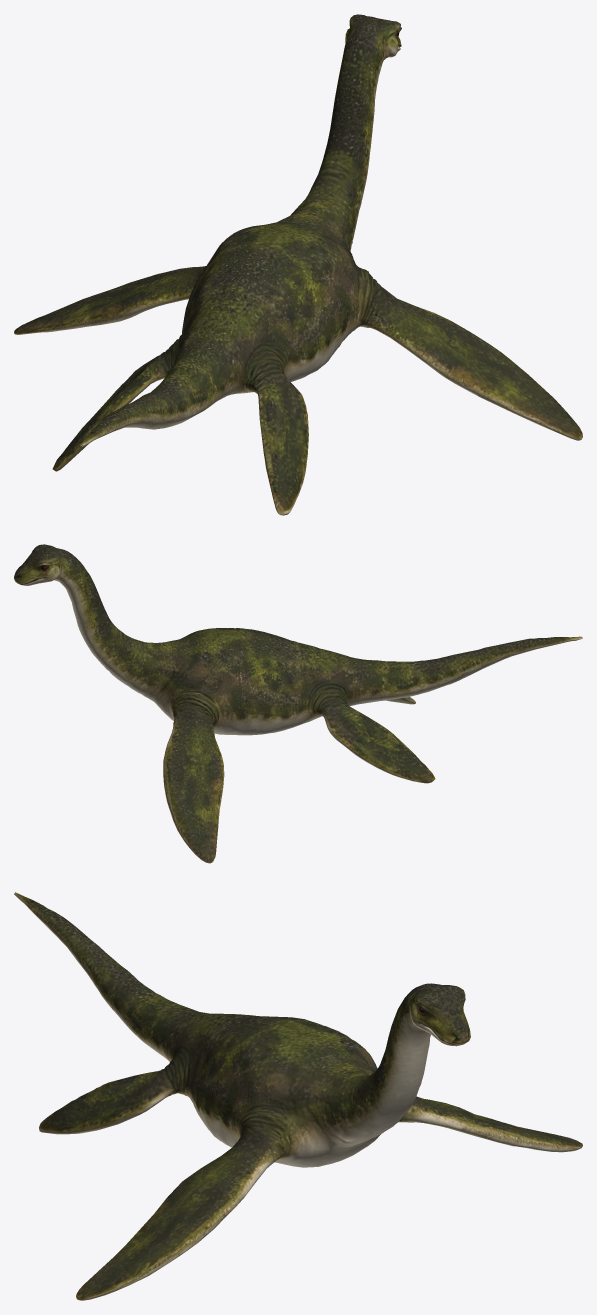
Rendered from beast-nessie.glb.
3 renders of one model, top to bottom at view 1: azimuth 30°, elevation 25°; view 2: azimuth 150°, elevation 25°; view 3: azimuth 270°, elevation 25°, orthographic. The views are drawn at different scales.
Parts seen in each view (by area): view 1: tripo_node_96603394-0335-4e59-9519-7a2a28394368; view 2: tripo_node_96603394-0335-4e59-9519-7a2a28394368; view 3: tripo_node_96603394-0335-4e59-9519-7a2a28394368.
Boxes of the visible parts, x1,y1,x2,y2 form: tripo_node_96603394-0335-4e59-9519-7a2a28394368: (14,14,582,515); tripo_node_96603394-0335-4e59-9519-7a2a28394368: (14,544,582,863); tripo_node_96603394-0335-4e59-9519-7a2a28394368: (14,892,582,1300).
Bounding box in the file's own units: 1 × 0.5291 × 0.9159.
Materials: 1 (1 with a texture image).
